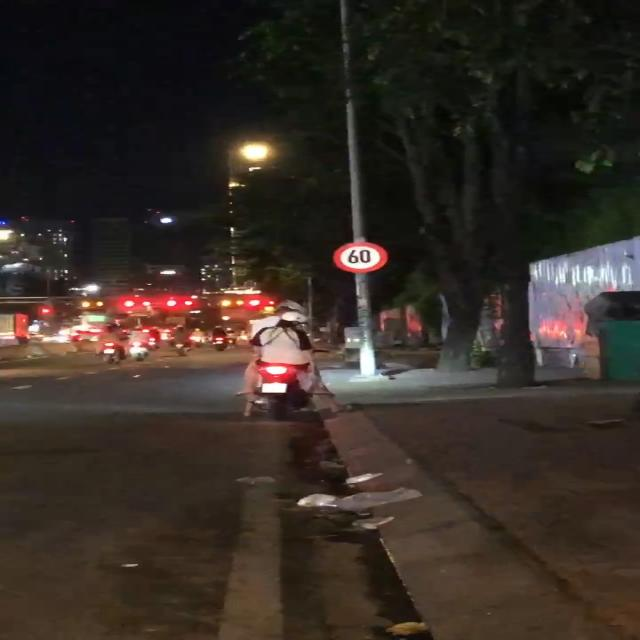Bien bao toc do toi da cho phep: (328, 236, 396, 278)
